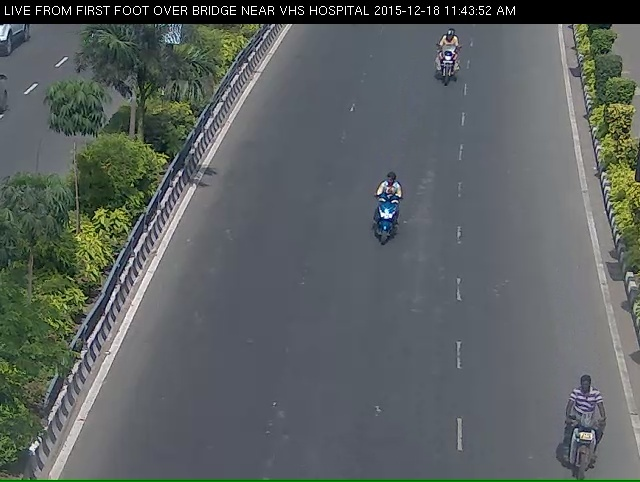Person: (563, 376, 613, 481), (363, 181, 402, 265), (429, 39, 473, 101)
